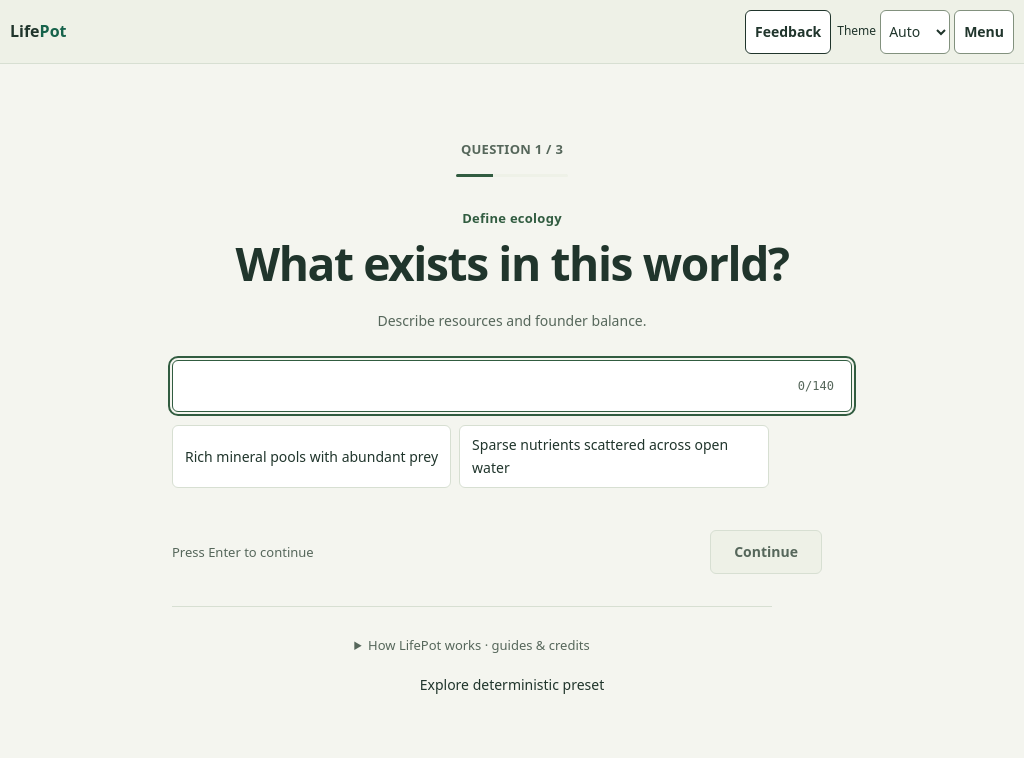
Test: offers a no-model preset through the existing guided setup
Click the button "Explore deterministic preset": (512, 686) left=420, top=664, right=604, bottom=708
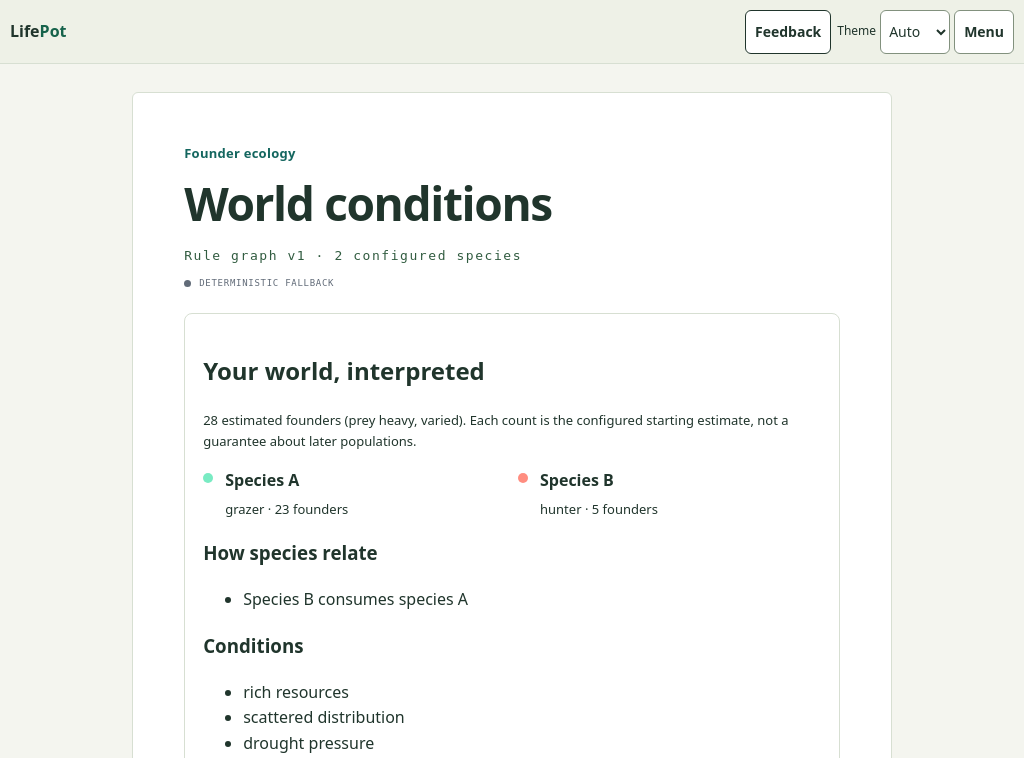
Now the element with test id "interpreter-source" reads "Deterministic fallback", box left=199, top=278, right=334, bottom=288
Now the text "Rule graph v1 · 2 configured species" is shown, box left=184, top=248, right=522, bottom=263
